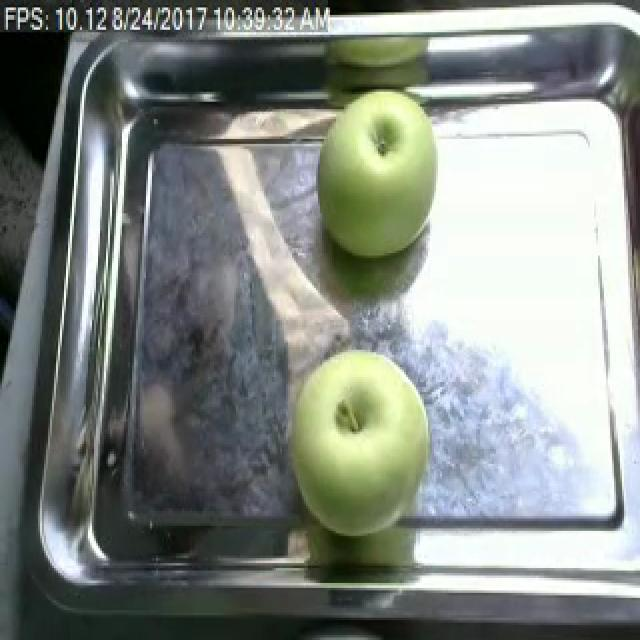50-_ripeness: (282, 352, 436, 531), (310, 81, 446, 262)
